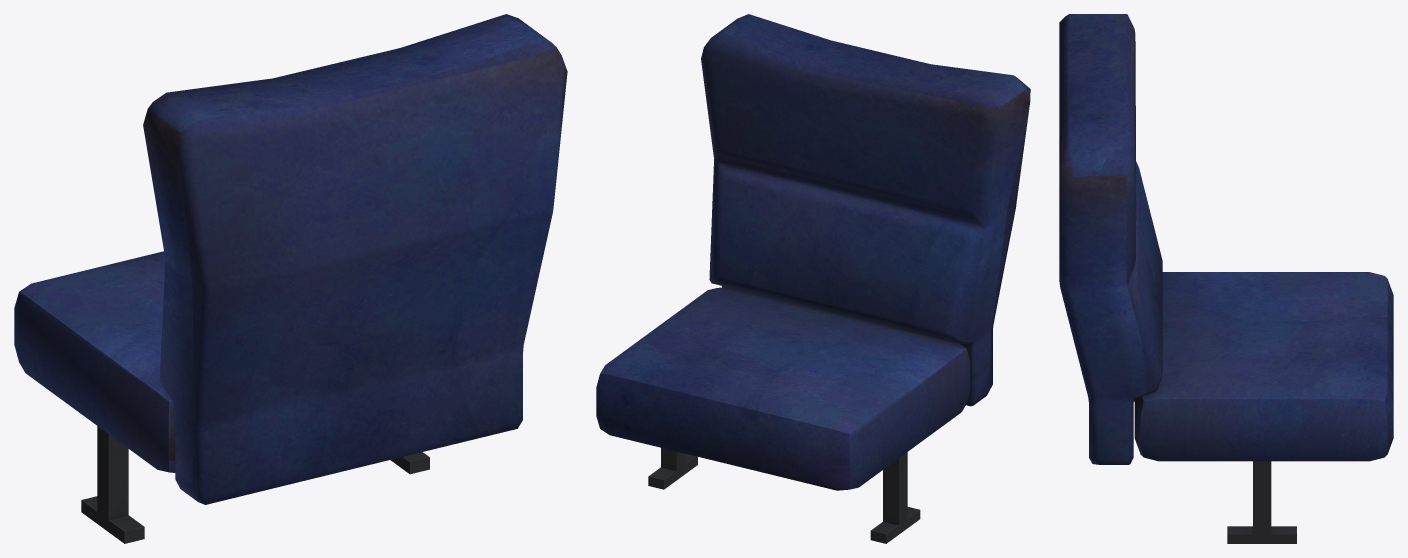
File: SM_Blue_Chair.fbx
3 renders of one model, left to right at view 1: azimuth 30°, elevation 25°; view 2: azimuth 150°, elevation 25°; view 3: azimuth 270°, elevation 25°, orthographic. The views are drawn at different scales.
Parts seen in each view (by area): view 1: SM_Blue_Chair; view 2: SM_Blue_Chair; view 3: SM_Blue_Chair.
Boxes of the visible parts, bbox=[...] form: SM_Blue_Chair: bbox=[14, 14, 567, 543]; SM_Blue_Chair: bbox=[596, 14, 1030, 543]; SM_Blue_Chair: bbox=[1059, 14, 1393, 543].
Bounding box in the file's own units: 69.05 × 64.36 × 85.54.
Materials: 1 (1 with a texture image).
